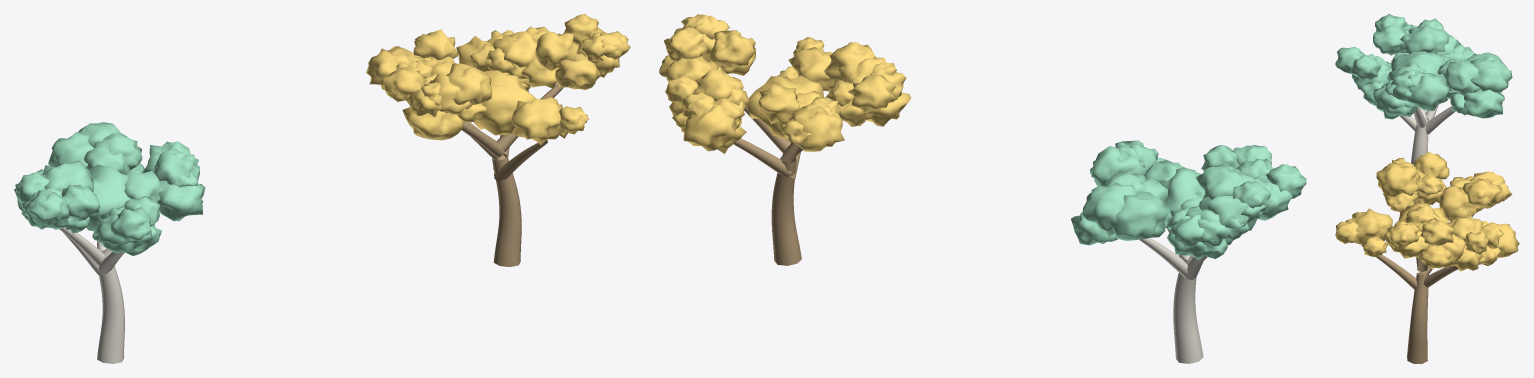
3 renders of one model, left to right at view 1: azimuth 30°, elevation 25°; view 2: azimuth 150°, elevation 25°; view 3: azimuth 270°, elevation 25°, orthographic. The views are drawn at different scales.
Parts seen in each view (by area): view 1: Golden, Skyroot; view 2: Golden, Skyroot; view 3: Golden, Skyroot.
Boxes of the visible parts, x1,y1,x2,y2 form: Golden: (366, 14, 630, 266); Skyroot: (14, 122, 205, 363); Golden: (659, 14, 911, 265); Skyroot: (1071, 140, 1306, 363); Golden: (1335, 152, 1519, 363); Skyroot: (1335, 14, 1512, 202).
Bounding box in the file's own units: 3.06 × 1.05 × 1.01.
